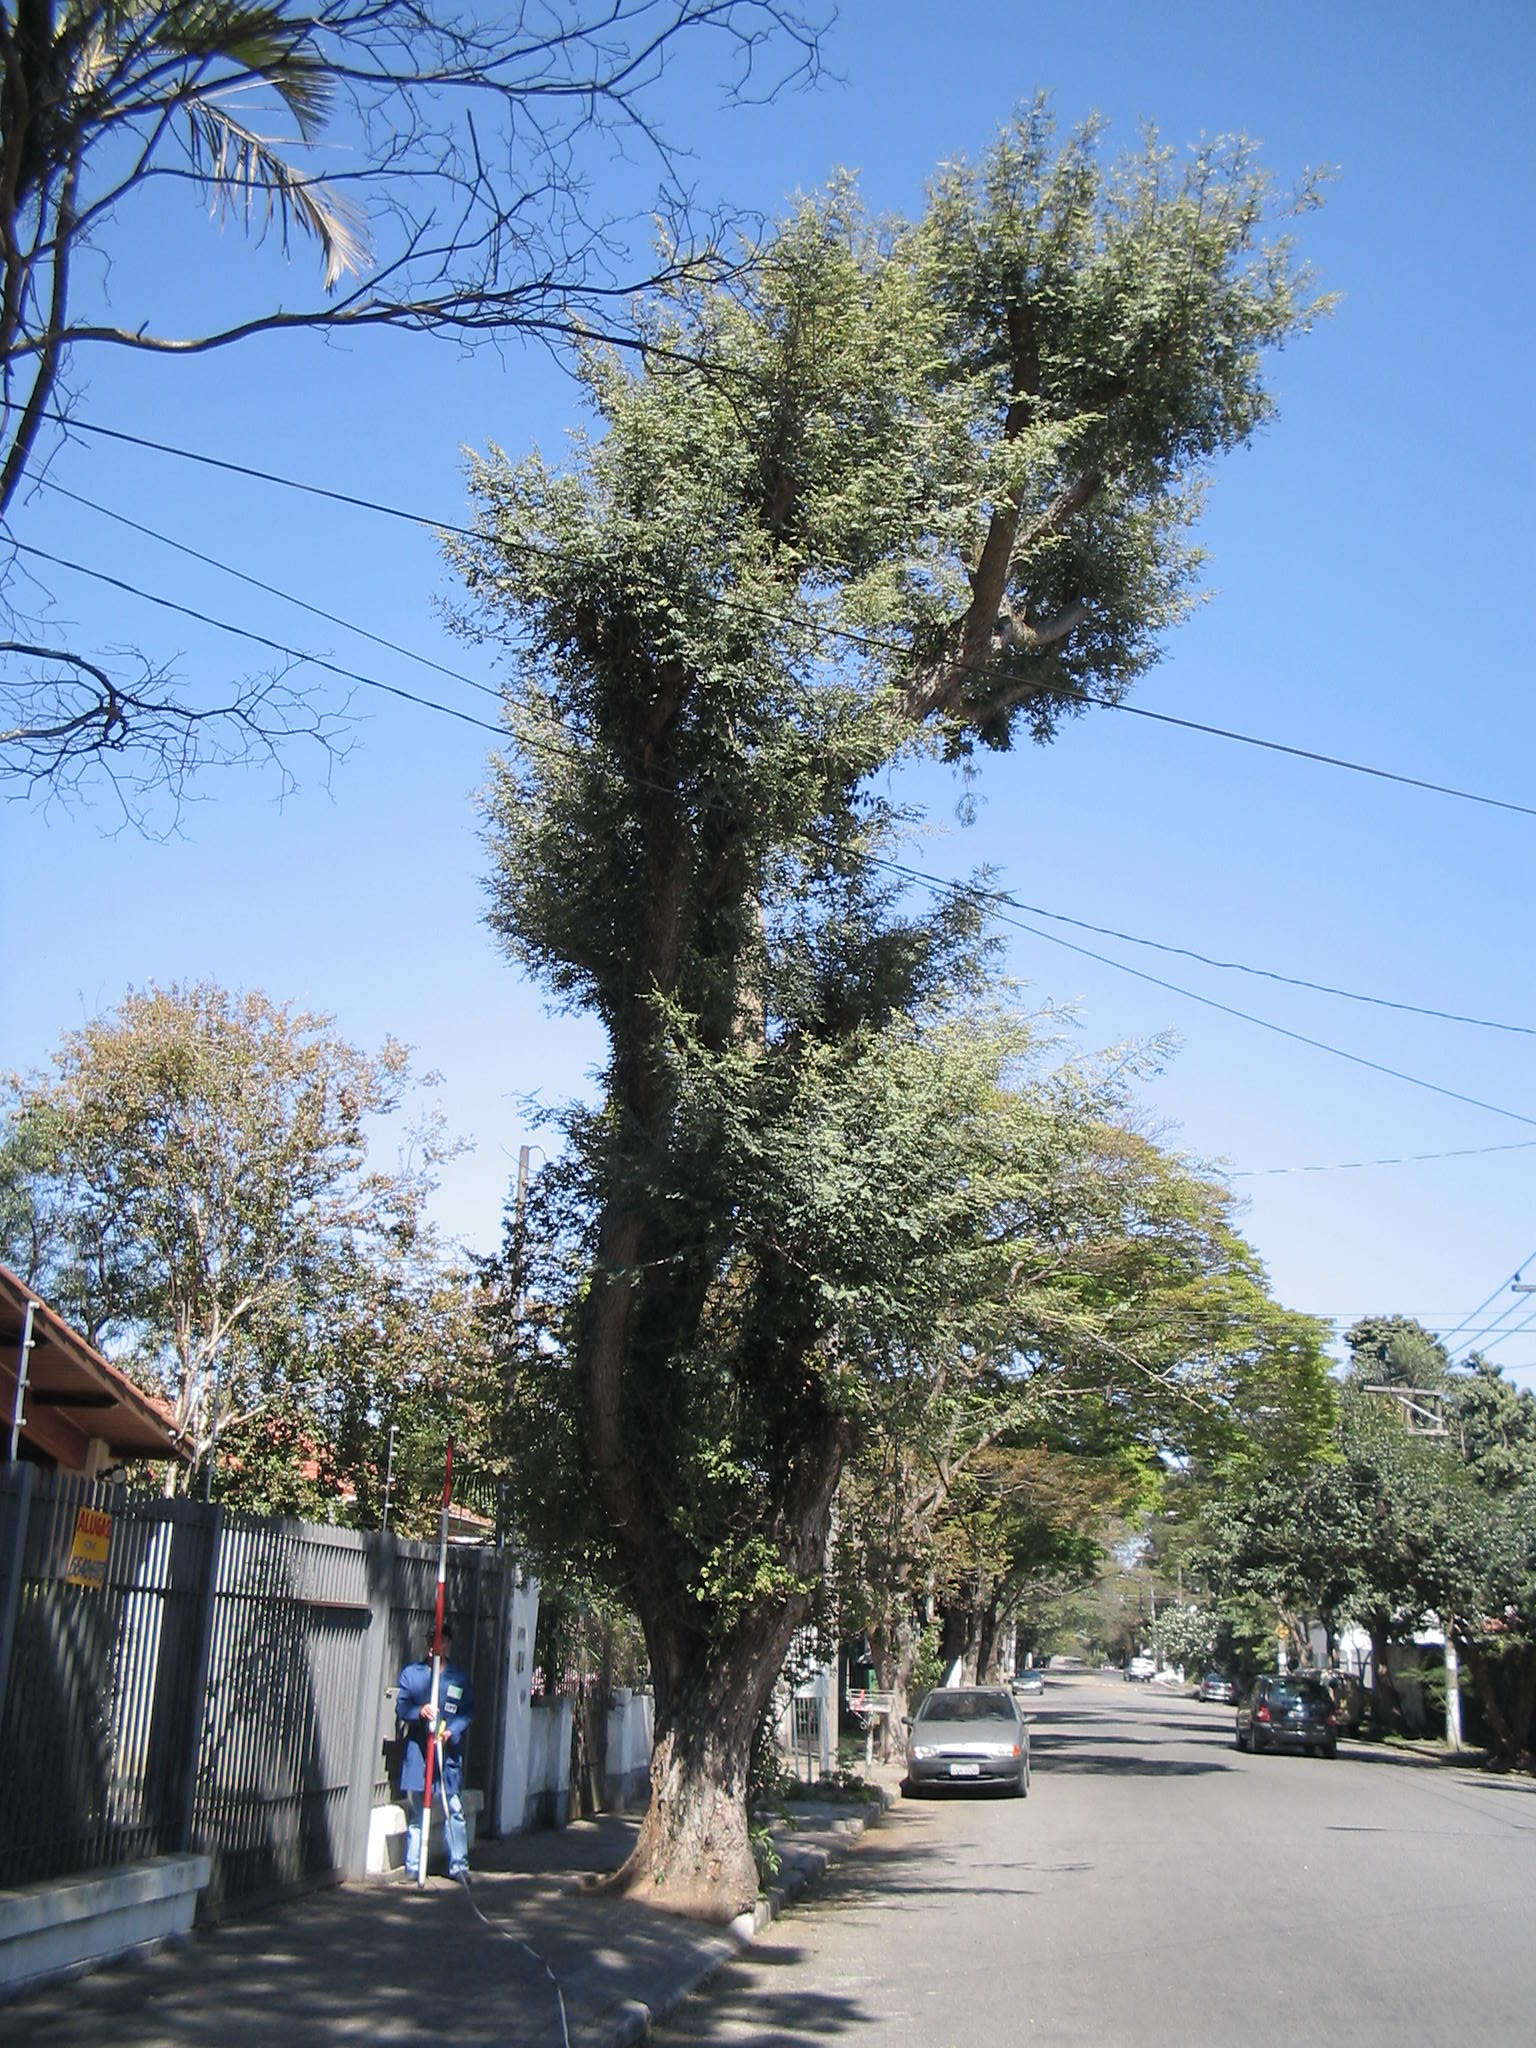crown: (431, 100, 1349, 1116)
stem: (565, 1617, 824, 1904)
stick: (390, 1434, 486, 1884)
tree: (419, 97, 1359, 1904), (3, 976, 482, 1495)
